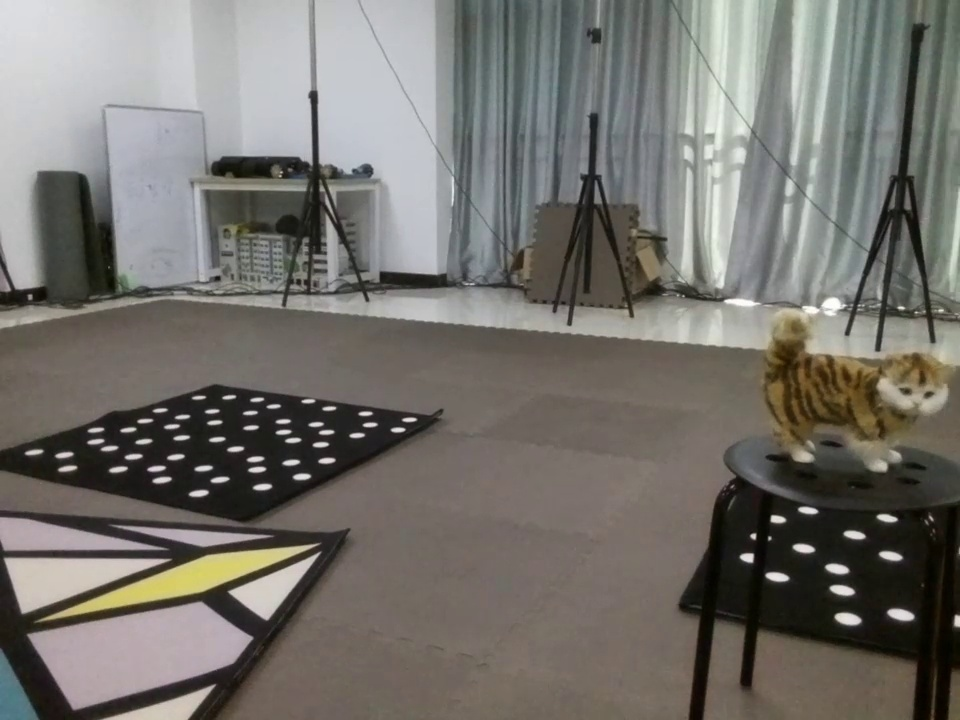cat: (737, 304, 955, 480)
